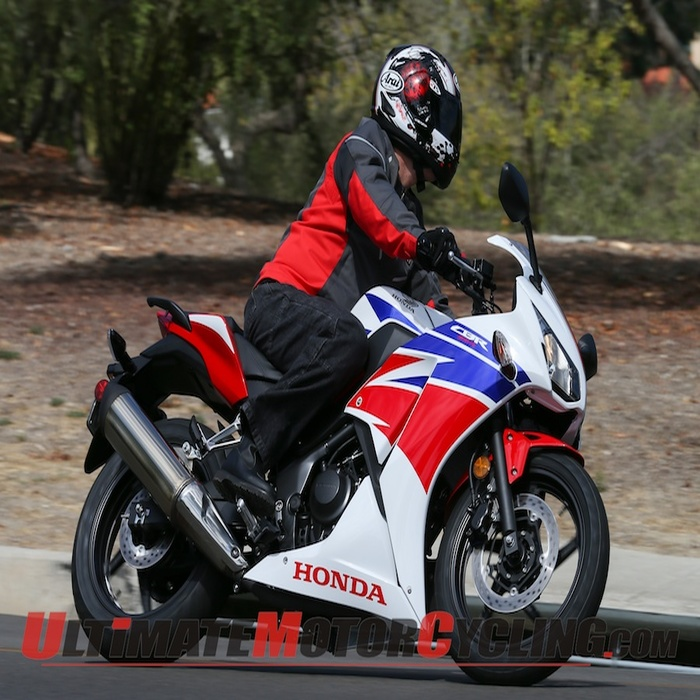h: (370, 40, 466, 198)
